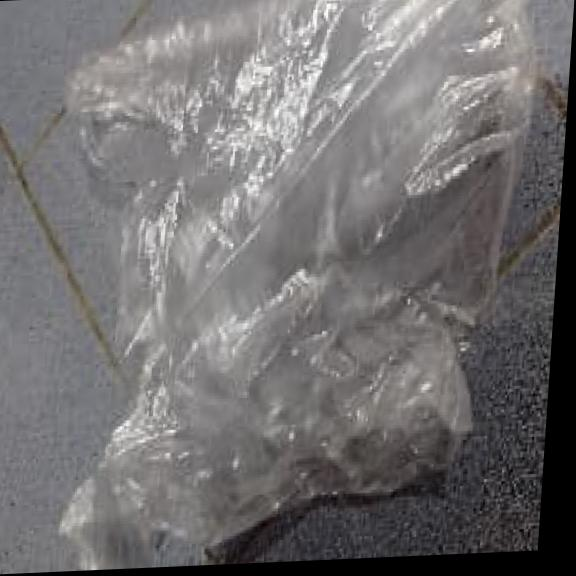Plastik: (60, 0, 545, 565)
